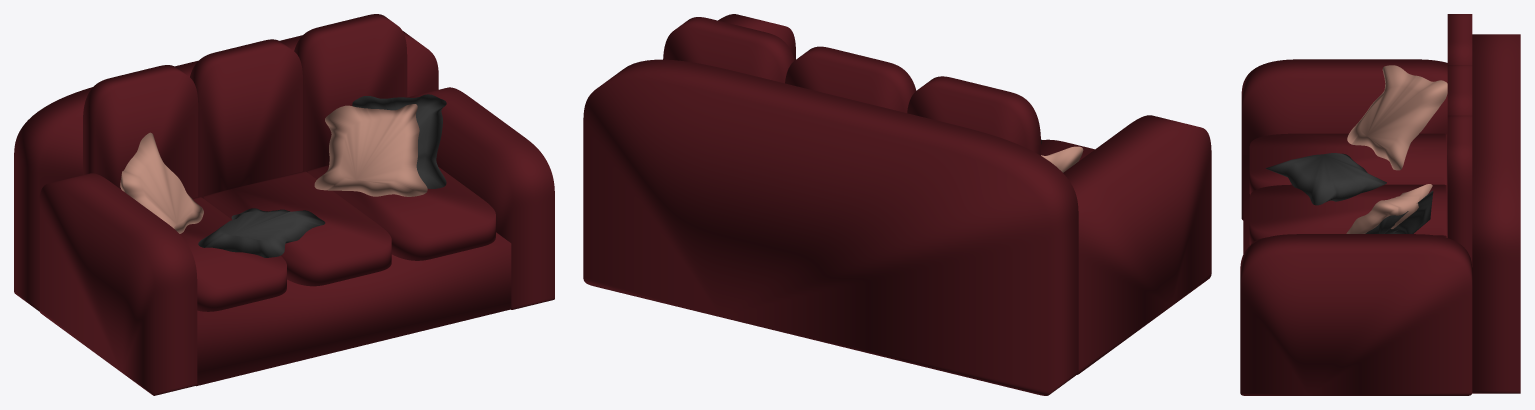
The model's file is kanapa_z_poduszkami.fbx.
3 views of the same model, side by side, from view 1: azimuth 30°, elevation 25°; view 2: azimuth 150°, elevation 25°; view 3: azimuth 270°, elevation 25° (orthographic). The views are drawn at different scales.
Visible parts, largest first — view 1: Cube; view 2: Cube; view 3: Cube.
Part boxes in pixels (x1,y1,x2,y2): Cube: (14,14,554,395); Cube: (583,14,1211,395); Cube: (1240,14,1520,395).
Bounding box in the file's own units: 1378 × 717 × 837.
